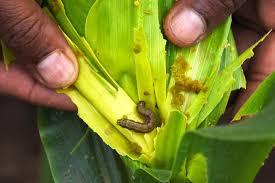fallarmy_worm: (114, 101, 159, 135)
